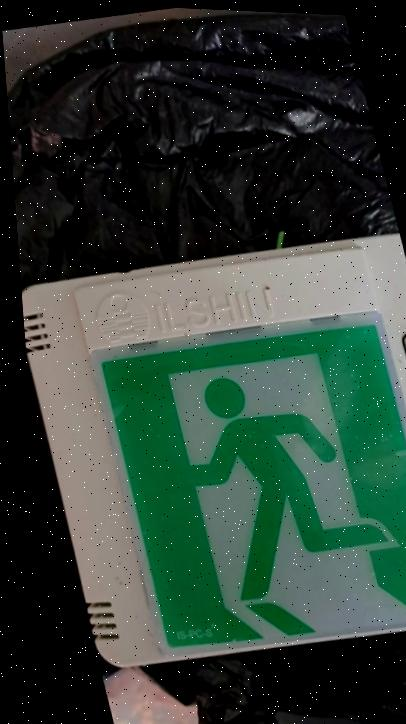emergency_exit: (21, 232, 405, 670)
